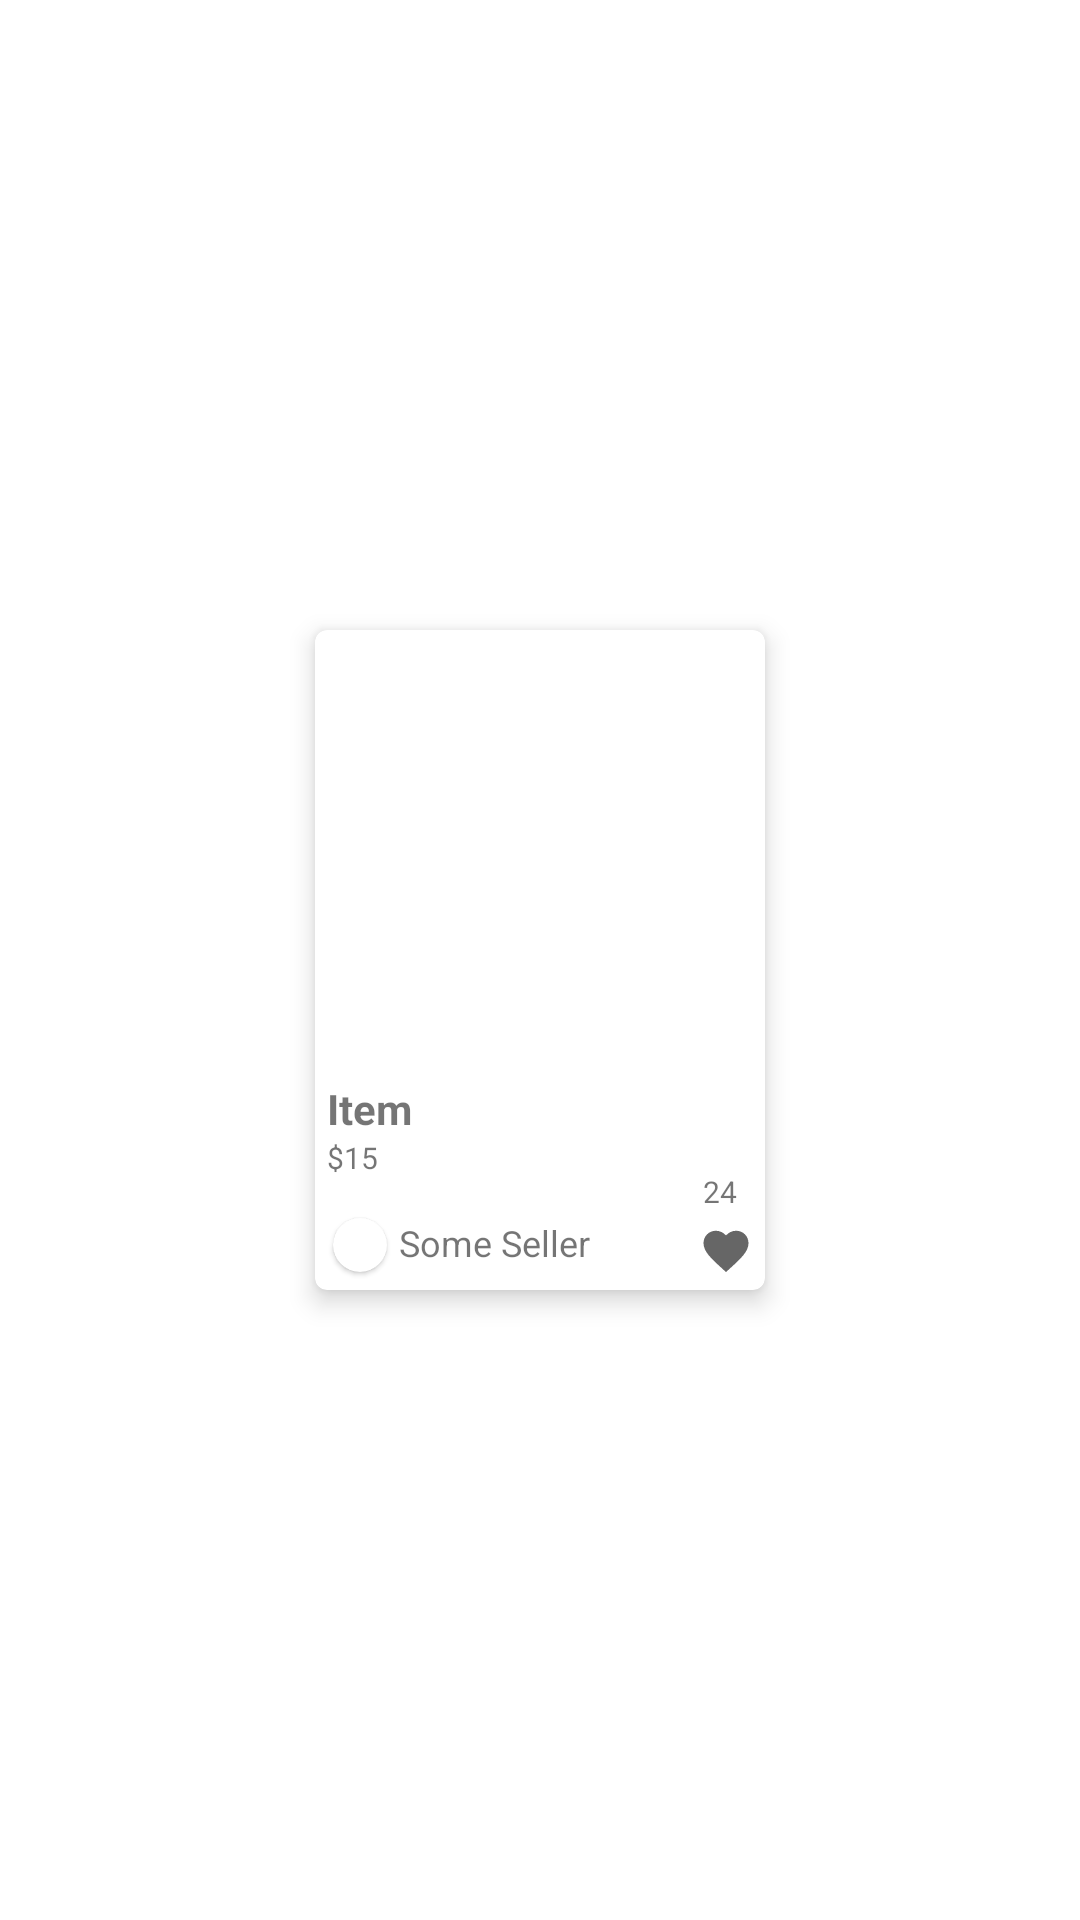

Icons on this 1080×1920 Android screen, each with its box as (x1, y1, x2, y2):
favorite: (703, 1230, 749, 1272)
